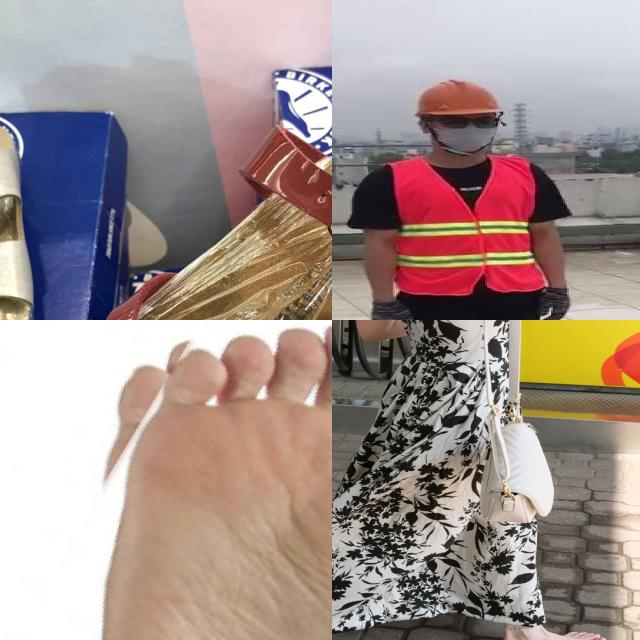Barefoots: (96, 320, 332, 640), (500, 631, 607, 640)
Sandals: (0, 52, 332, 320)
head_helmet: (416, 76, 502, 115)
person: (339, 80, 579, 320)
vest: (384, 159, 546, 294)
